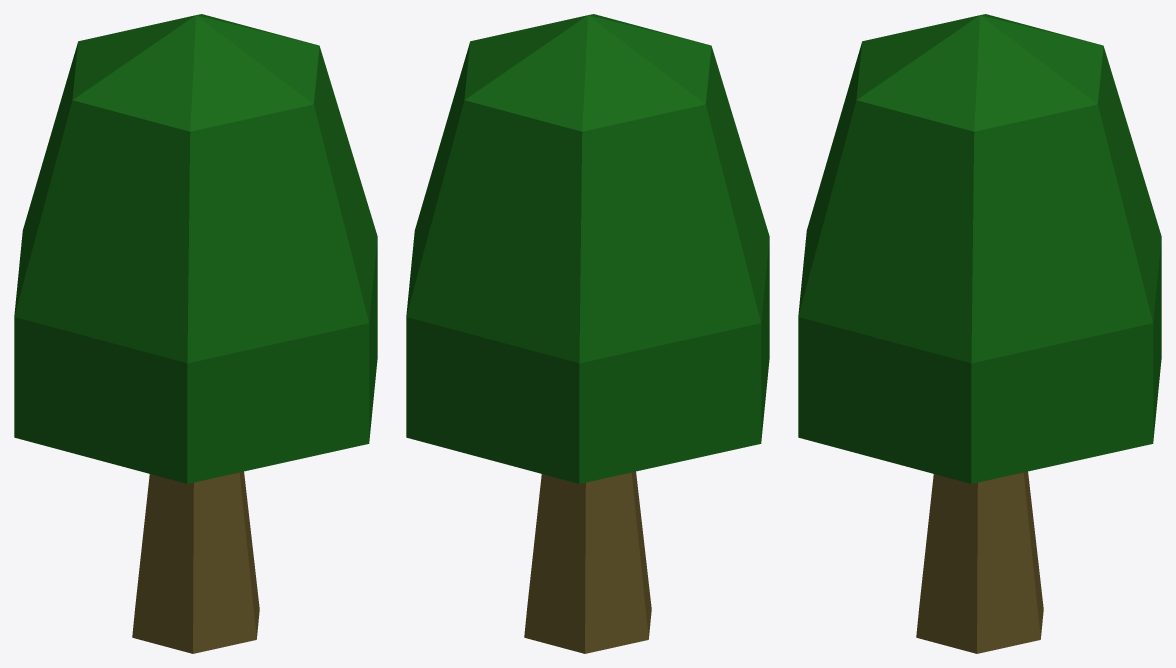
File: Vegetation_Tree_Common_Summer_03.fbx
3 views of the same model, side by side, from view 1: azimuth 30°, elevation 25°; view 2: azimuth 150°, elevation 25°; view 3: azimuth 270°, elevation 25° (orthographic).
Visible parts, largest first — view 1: Vegetation_Tree_Common_Summer_03; view 2: Vegetation_Tree_Common_Summer_03; view 3: Vegetation_Tree_Common_Summer_03.
Part boxes in pixels (<box>): Vegetation_Tree_Common_Summer_03: <box>14,14,377,653</box>; Vegetation_Tree_Common_Summer_03: <box>406,14,769,653</box>; Vegetation_Tree_Common_Summer_03: <box>798,14,1161,653</box>.
Bounding box in the file's own units: 2574 × 4216 × 2282.
